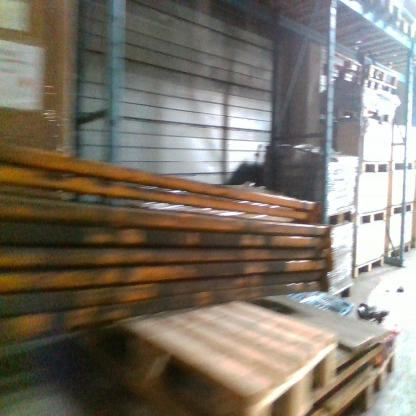pallet: (82, 300, 337, 414), (315, 1, 401, 39), (341, 13, 414, 55), (332, 53, 396, 88), (332, 63, 396, 93), (367, 346, 397, 408), (354, 253, 384, 279), (324, 207, 355, 227), (355, 207, 387, 224), (385, 242, 411, 259), (361, 161, 391, 174), (388, 201, 414, 216), (336, 284, 353, 303), (391, 160, 414, 172)
